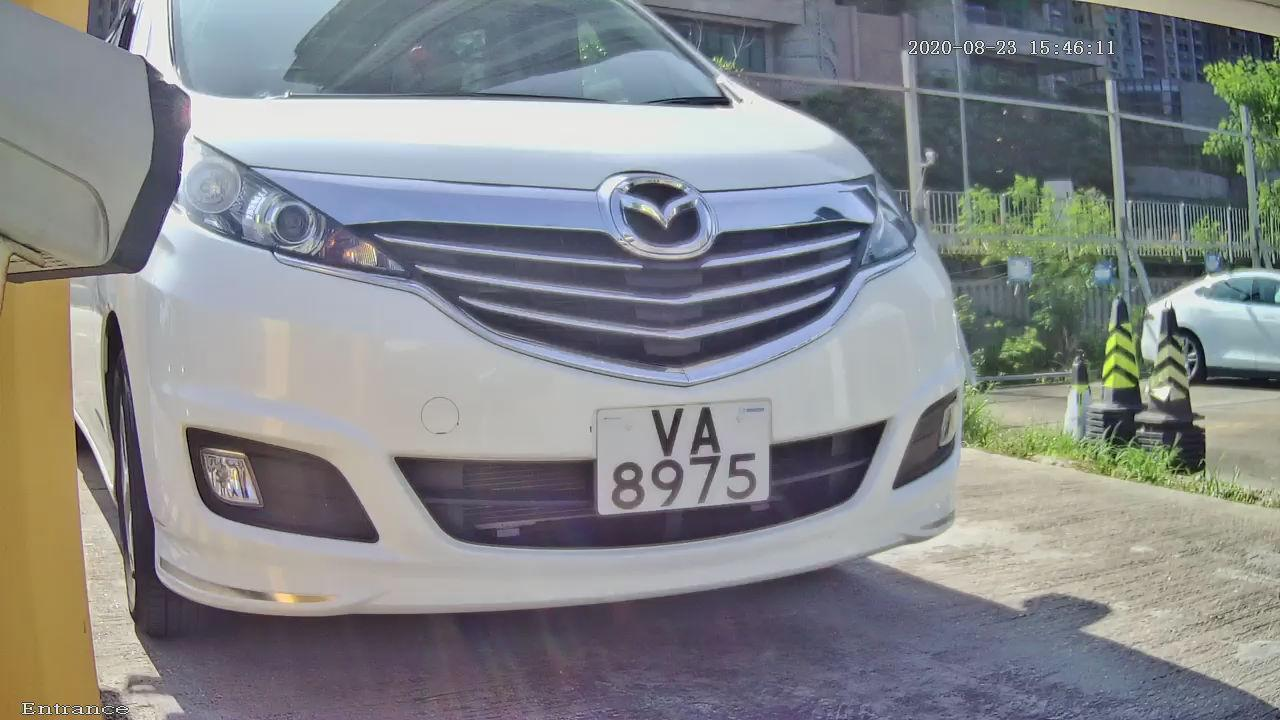Car: (41, 1, 1018, 692)
License Plate: (578, 380, 789, 534)
